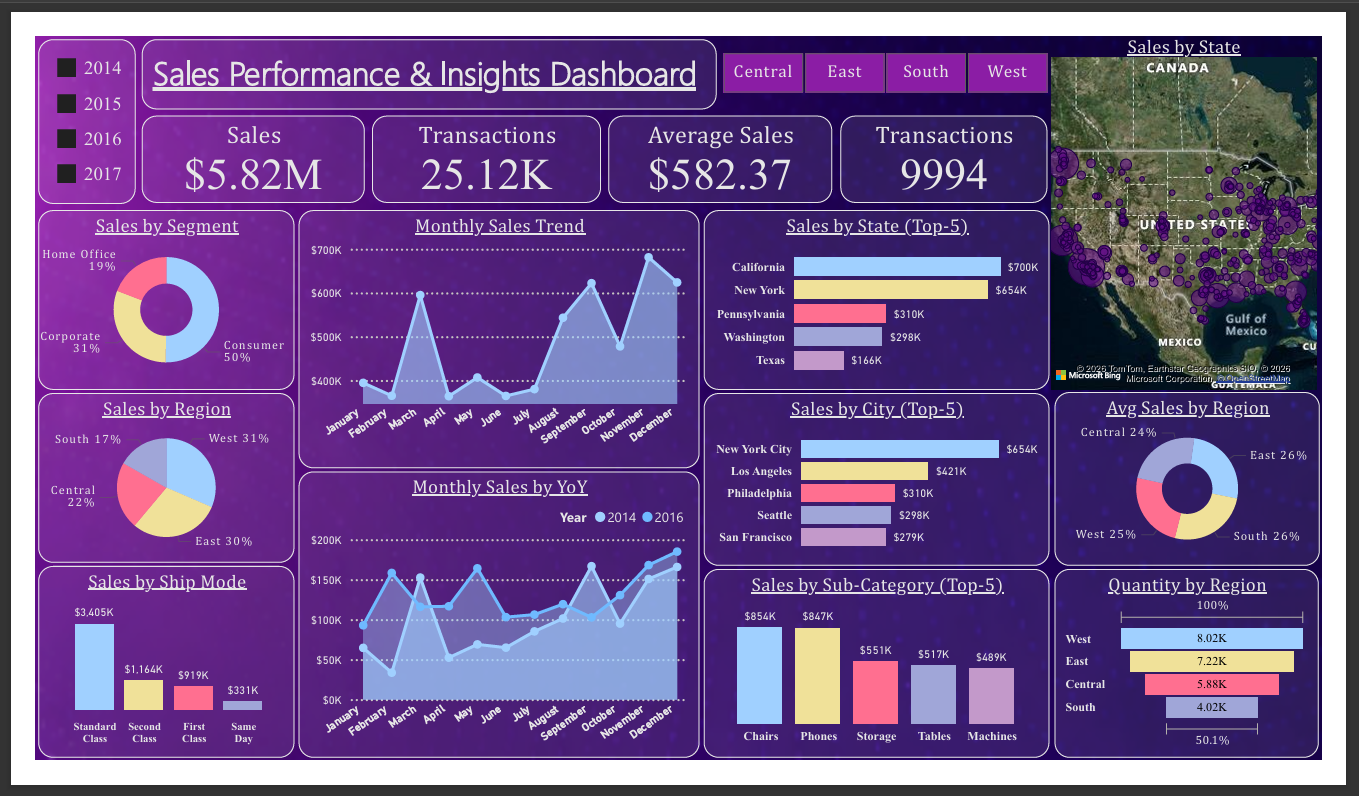

The dashboard page shown, as its layout file describes it:
{"tool":"powerbi","page":{"name":"Page 1","canvas":[1280,720],"ordinal":0},"visuals":[{"type":"barChart","title":"Sales by State (Top-5)","fields":{"Category":["Superstore.State"],"Y":["Superstore.Total Sales"]},"box":[665.2,172.7,343.9,178.8],"z":0},{"type":"card","title":"Sales","fields":{"Values":["Superstore.Total Sales"]},"box":[106,78.8,222,87.4],"z":1000},{"type":"card","title":"Average Sales","fields":{"Values":["Superstore.Avg Sales"]},"box":[570.1,78.8,223,87.4],"z":2000},{"type":"card","title":"Transactions","fields":{"Values":["CountNonNull(Superstore.Order ID)"]},"box":[800.7,78.8,206.3,87.4],"z":3000},{"type":"card","title":"Transactions","fields":{"Values":["Sum(Superstore.Quantity)"]},"box":[335.2,78.8,227.8,87.4],"z":4000},{"type":"map","title":"Sales by State","fields":{"Size":["Superstore.Total Sales"],"Category":["Superstore.City"]},"box":[1006.4,1.4,273.6,355.2],"z":5000},{"type":"columnChart","title":"Sales by Ship Mode","fields":{"Y":["Superstore.Total Sales"],"Category":["Superstore.Ship Mode"]},"box":[3,527.3,254.5,190.9],"z":6000},{"type":"donutChart","title":"Sales by Segment","fields":{"Y":["Superstore.Total Sales"],"Category":["Superstore.Segment"]},"box":[3,172.7,254.5,179],"z":7000},{"type":"slicer","fields":{"Values":["Superstore.Region"]},"box":[658.9,10,372.4,53],"z":8000},{"type":"textbox","box":[106,3,572.4,69.7],"z":9000},{"type":"slicer","fields":{"Values":["Superstore.Order Date.Variation.Date Hierarchy.Year"]},"box":[3,3,96.9,163.5],"z":10000},{"type":"areaChart","title":"Monthly Sales Trend","fields":{"Y":["Superstore.Total Sales"],"Category":["Superstore.Order Date.Variation.Date Hierarchy.Month"]},"box":[262.1,172.7,398.5,257.6],"z":11000},{"type":"areaChart","title":"Monthly Sales by YoY","fields":{"Y":["Superstore.Total Sales"],"Series":["Superstore.Order Date.Variation.Date Hierarchy.Year"],"Category":["Superstore.Order Date.Variation.Date Hierarchy.Month"]},"box":[262.1,433.3,398.5,284.8],"z":12000},{"type":"pieChart","title":"Sales by Region","fields":{"Category":["Superstore.Region"],"Y":["Superstore.Total Sales"]},"box":[3,354.5,254.5,169.7],"z":13000},{"type":"donutChart","title":"Avg Sales by Region","fields":{"Category":["Superstore.Region"],"Y":["Superstore.Avg Sales"]},"box":[1014.1,353.8,263.6,173.3],"z":14000},{"type":"columnChart","title":"Sales by Sub-Category (Top-5)","fields":{"Y":["Superstore.Total Sales"],"Category":["Superstore.Sub-Category"]},"box":[665.2,530.3,343.9,187.9],"z":15000},{"type":"barChart","title":"Sales by City (Top-5)","fields":{"Category":["Superstore.City"],"Y":["Superstore.Total Sales"]},"box":[665.2,354.5,343.9,172.7],"z":16000},{"type":"funnel","title":"Quantity by Region","fields":{"Category":["Superstore.Region"],"Y":["Sum(Superstore.Quantity)"]},"box":[1013.6,530.3,263.6,187.9],"z":17000}]}

Visuals, with their boxes on the page's 1280x720 design canvas (x1, y1, x2, y2). These are canvas units, not pixel positions in the 1359x796 screenshot, which may show the page scaled, cropped or inside an application window:
"Sales by State (Top-5)" barChart: 665 173 1009 352
"Sales" card: 106 79 328 166
"Average Sales" card: 570 79 793 166
"Transactions" card: 801 79 1007 166
"Transactions" card: 335 79 563 166
"Sales by State" map: 1006 1 1280 357
"Sales by Ship Mode" columnChart: 3 527 258 718
"Sales by Segment" donutChart: 3 173 258 352
slicer - Superstore.Region: 659 10 1031 63
textbox: 106 3 678 73
slicer - Superstore.Order Date.Variation.Date Hierarchy.Year: 3 3 100 166
"Monthly Sales Trend" areaChart: 262 173 661 430
"Monthly Sales by YoY" areaChart: 262 433 661 718
"Sales by Region" pieChart: 3 354 258 524
"Avg Sales by Region" donutChart: 1014 354 1278 527
"Sales by Sub-Category (Top-5)" columnChart: 665 530 1009 718
"Sales by City (Top-5)" barChart: 665 354 1009 527
"Quantity by Region" funnel: 1014 530 1277 718
